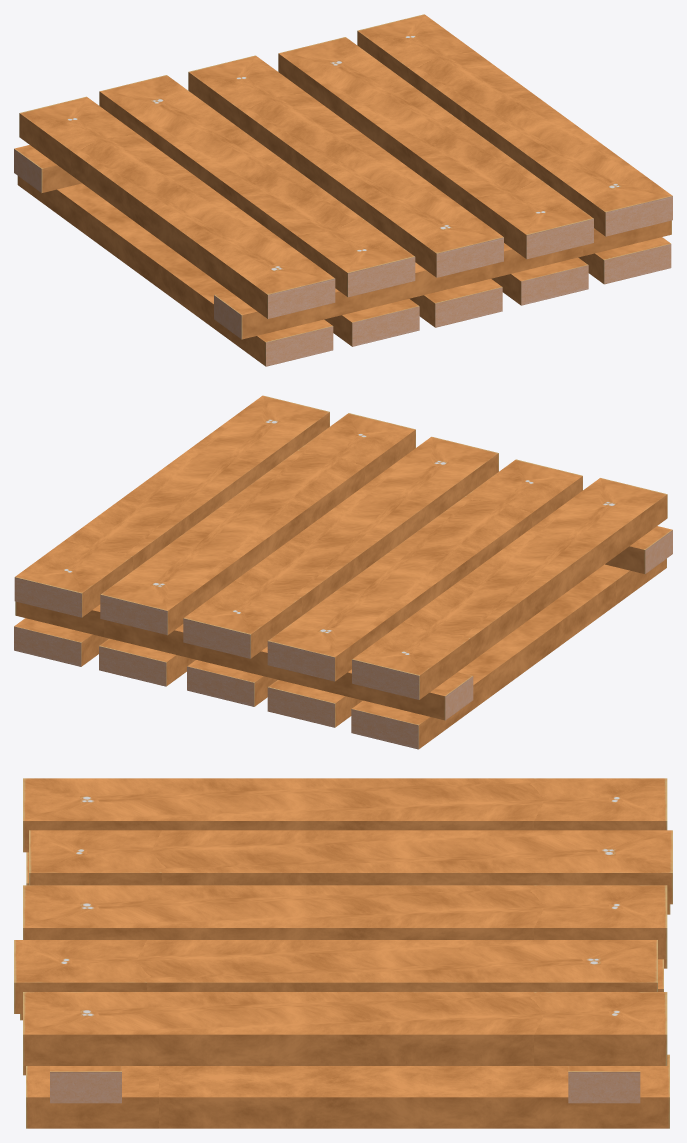
File: Pallet_1.fbx
The picture shows the model from 3 angles, top to bottom: view 1: azimuth 30°, elevation 25°; view 2: azimuth 150°, elevation 25°; view 3: azimuth 270°, elevation 25°; orthographic projection. The views are drawn at different scales.
Parts seen in each view (by area): view 1: Pallet_1; view 2: Pallet_1; view 3: Pallet_1.
Part boxes in pixels (x1=…): Pallet_1: x1=14, y1=14, x2=672, y2=366; Pallet_1: x1=14, y1=395, x2=672, y2=749; Pallet_1: x1=14, y1=778, x2=672, y2=1128.
Bounding box in the file's own units: 0.9842 × 0.1588 × 1.01.
